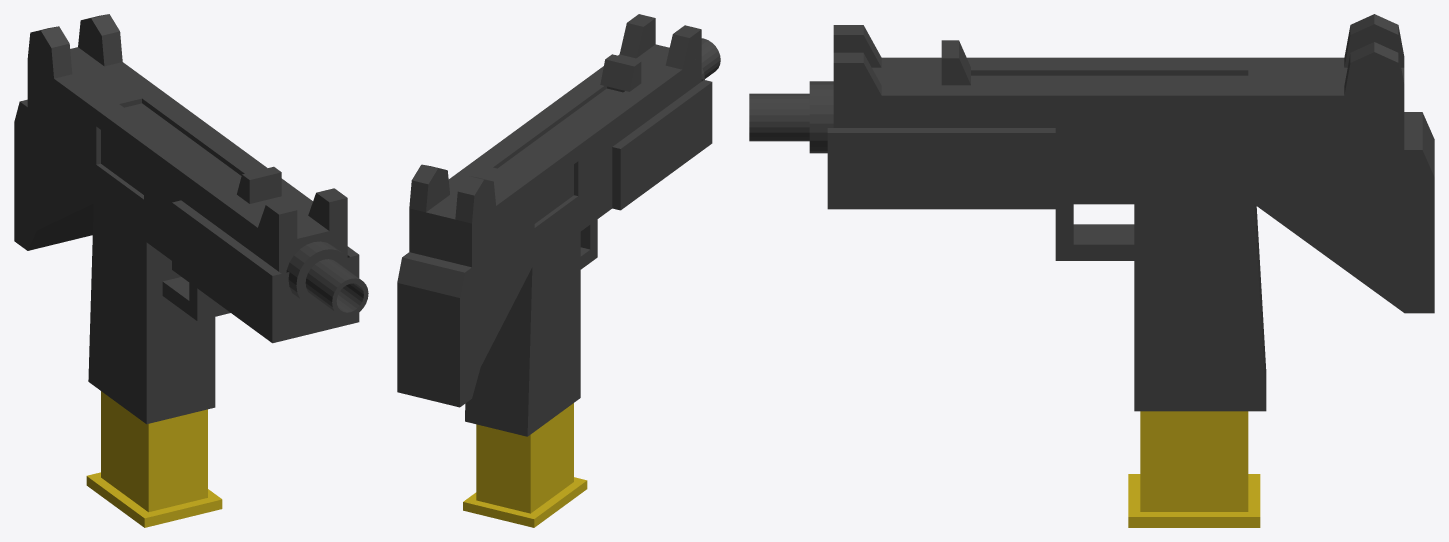
File: uzigoldlong.glb
3 renders of one model, left to right at view 1: azimuth 30°, elevation 25°; view 2: azimuth 150°, elevation 25°; view 3: azimuth 270°, elevation 25°, orthographic. The views are drawn at different scales.
Visible parts, largest first — view 1: Mesh4 Group5 Group1 Model, Mesh2 Group3 Group1 Model, Mesh3 Group4 Group1 Model, Mesh1 Group2 Group1 Model; view 2: Mesh4 Group5 Group1 Model, Mesh3 Group4 Group1 Model, Mesh2 Group3 Group1 Model, Mesh1 Group2 Group1 Model; view 3: Mesh4 Group5 Group1 Model, Mesh3 Group4 Group1 Model, Mesh2 Group3 Group1 Model, Mesh1 Group2 Group1 Model.
Part boxes in pixels (box(x1,y1,x2,y2)): Mesh4 Group5 Group1 Model: box(27, 14, 368, 424); Mesh2 Group3 Group1 Model: box(86, 391, 222, 527); Mesh3 Group4 Group1 Model: box(14, 99, 93, 250); Mesh1 Group2 Group1 Model: box(237, 166, 281, 203); Mesh4 Group5 Group1 Model: box(409, 14, 720, 436); Mesh3 Group4 Group1 Model: box(397, 245, 532, 407); Mesh2 Group3 Group1 Model: box(463, 403, 587, 527); Mesh1 Group2 Group1 Model: box(600, 54, 641, 92); Mesh4 Group5 Group1 Model: box(749, 14, 1404, 411); Mesh3 Group4 Group1 Model: box(1254, 112, 1434, 313); Mesh2 Group3 Group1 Model: box(1128, 411, 1260, 527); Mesh1 Group2 Group1 Model: box(941, 40, 970, 85).
Bounding box in the file's own units: 0.0114 × 0.0522 × 0.0685.
